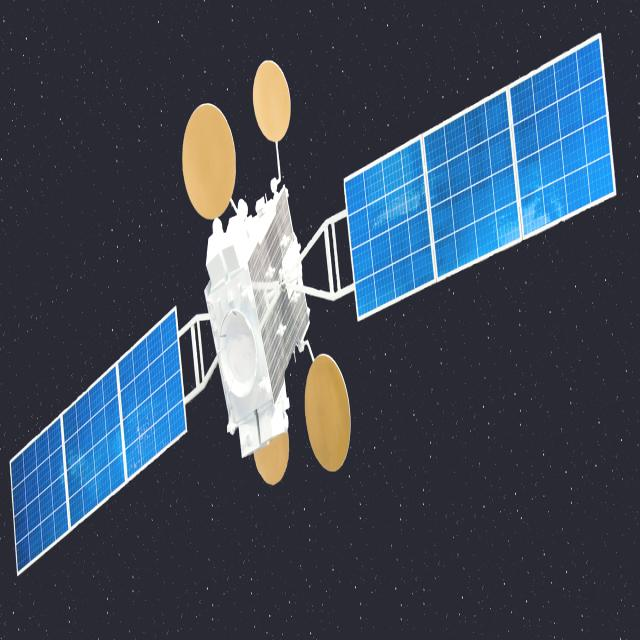medium_debris: (11, 25, 616, 572)
